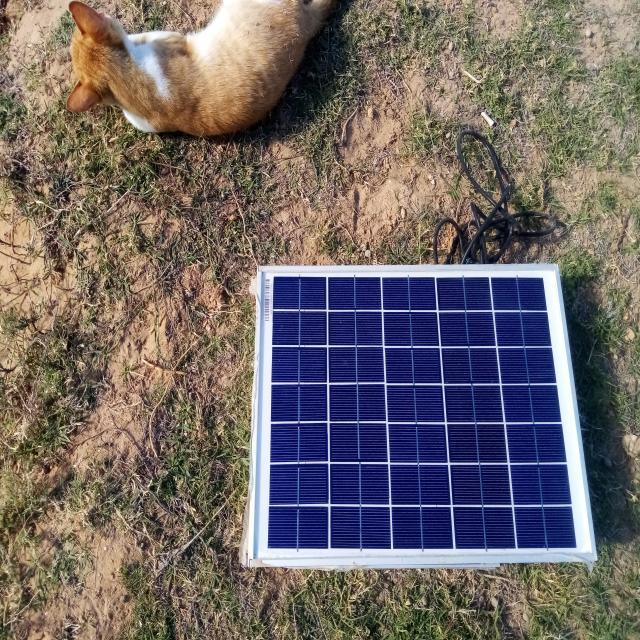no faulty: (249, 264, 596, 565)
